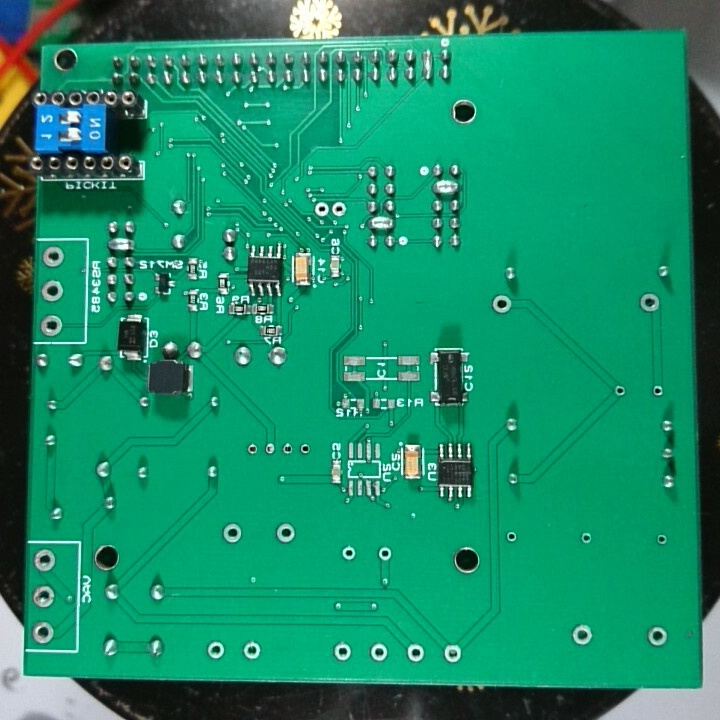F: (567, 618, 598, 654), (39, 275, 68, 308), (643, 620, 670, 655), (31, 545, 59, 578), (271, 520, 301, 549), (28, 617, 58, 646), (39, 242, 66, 274), (30, 583, 60, 611), (217, 520, 248, 547), (39, 311, 66, 342), (638, 288, 663, 318), (239, 635, 264, 664), (402, 638, 427, 666), (441, 642, 466, 669), (365, 640, 390, 666), (330, 640, 356, 665), (489, 292, 513, 317), (330, 196, 350, 223), (375, 542, 394, 568), (339, 543, 359, 566), (205, 637, 224, 660), (277, 438, 296, 460), (504, 526, 519, 549), (611, 382, 630, 400), (312, 199, 330, 218), (653, 530, 670, 550), (261, 439, 277, 460), (299, 436, 313, 460), (578, 529, 595, 548), (245, 439, 261, 459), (649, 382, 665, 400)
P: (430, 178, 464, 198), (104, 235, 139, 254), (419, 44, 435, 85), (366, 212, 397, 232)
